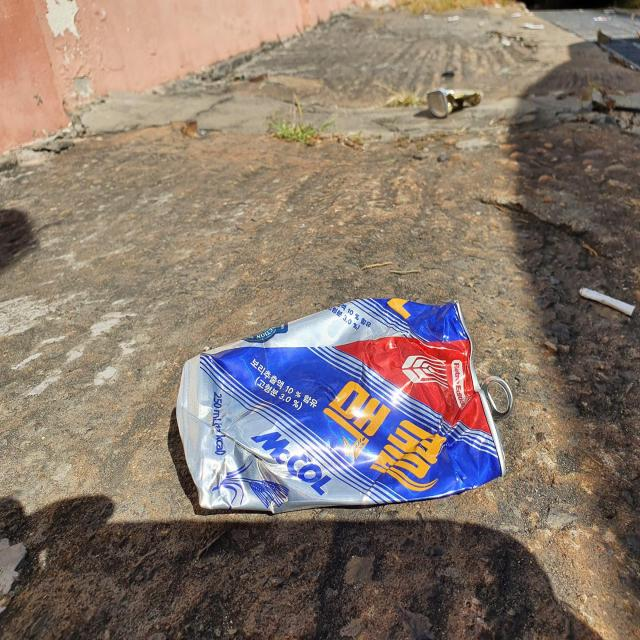can: (176, 297, 513, 513)
